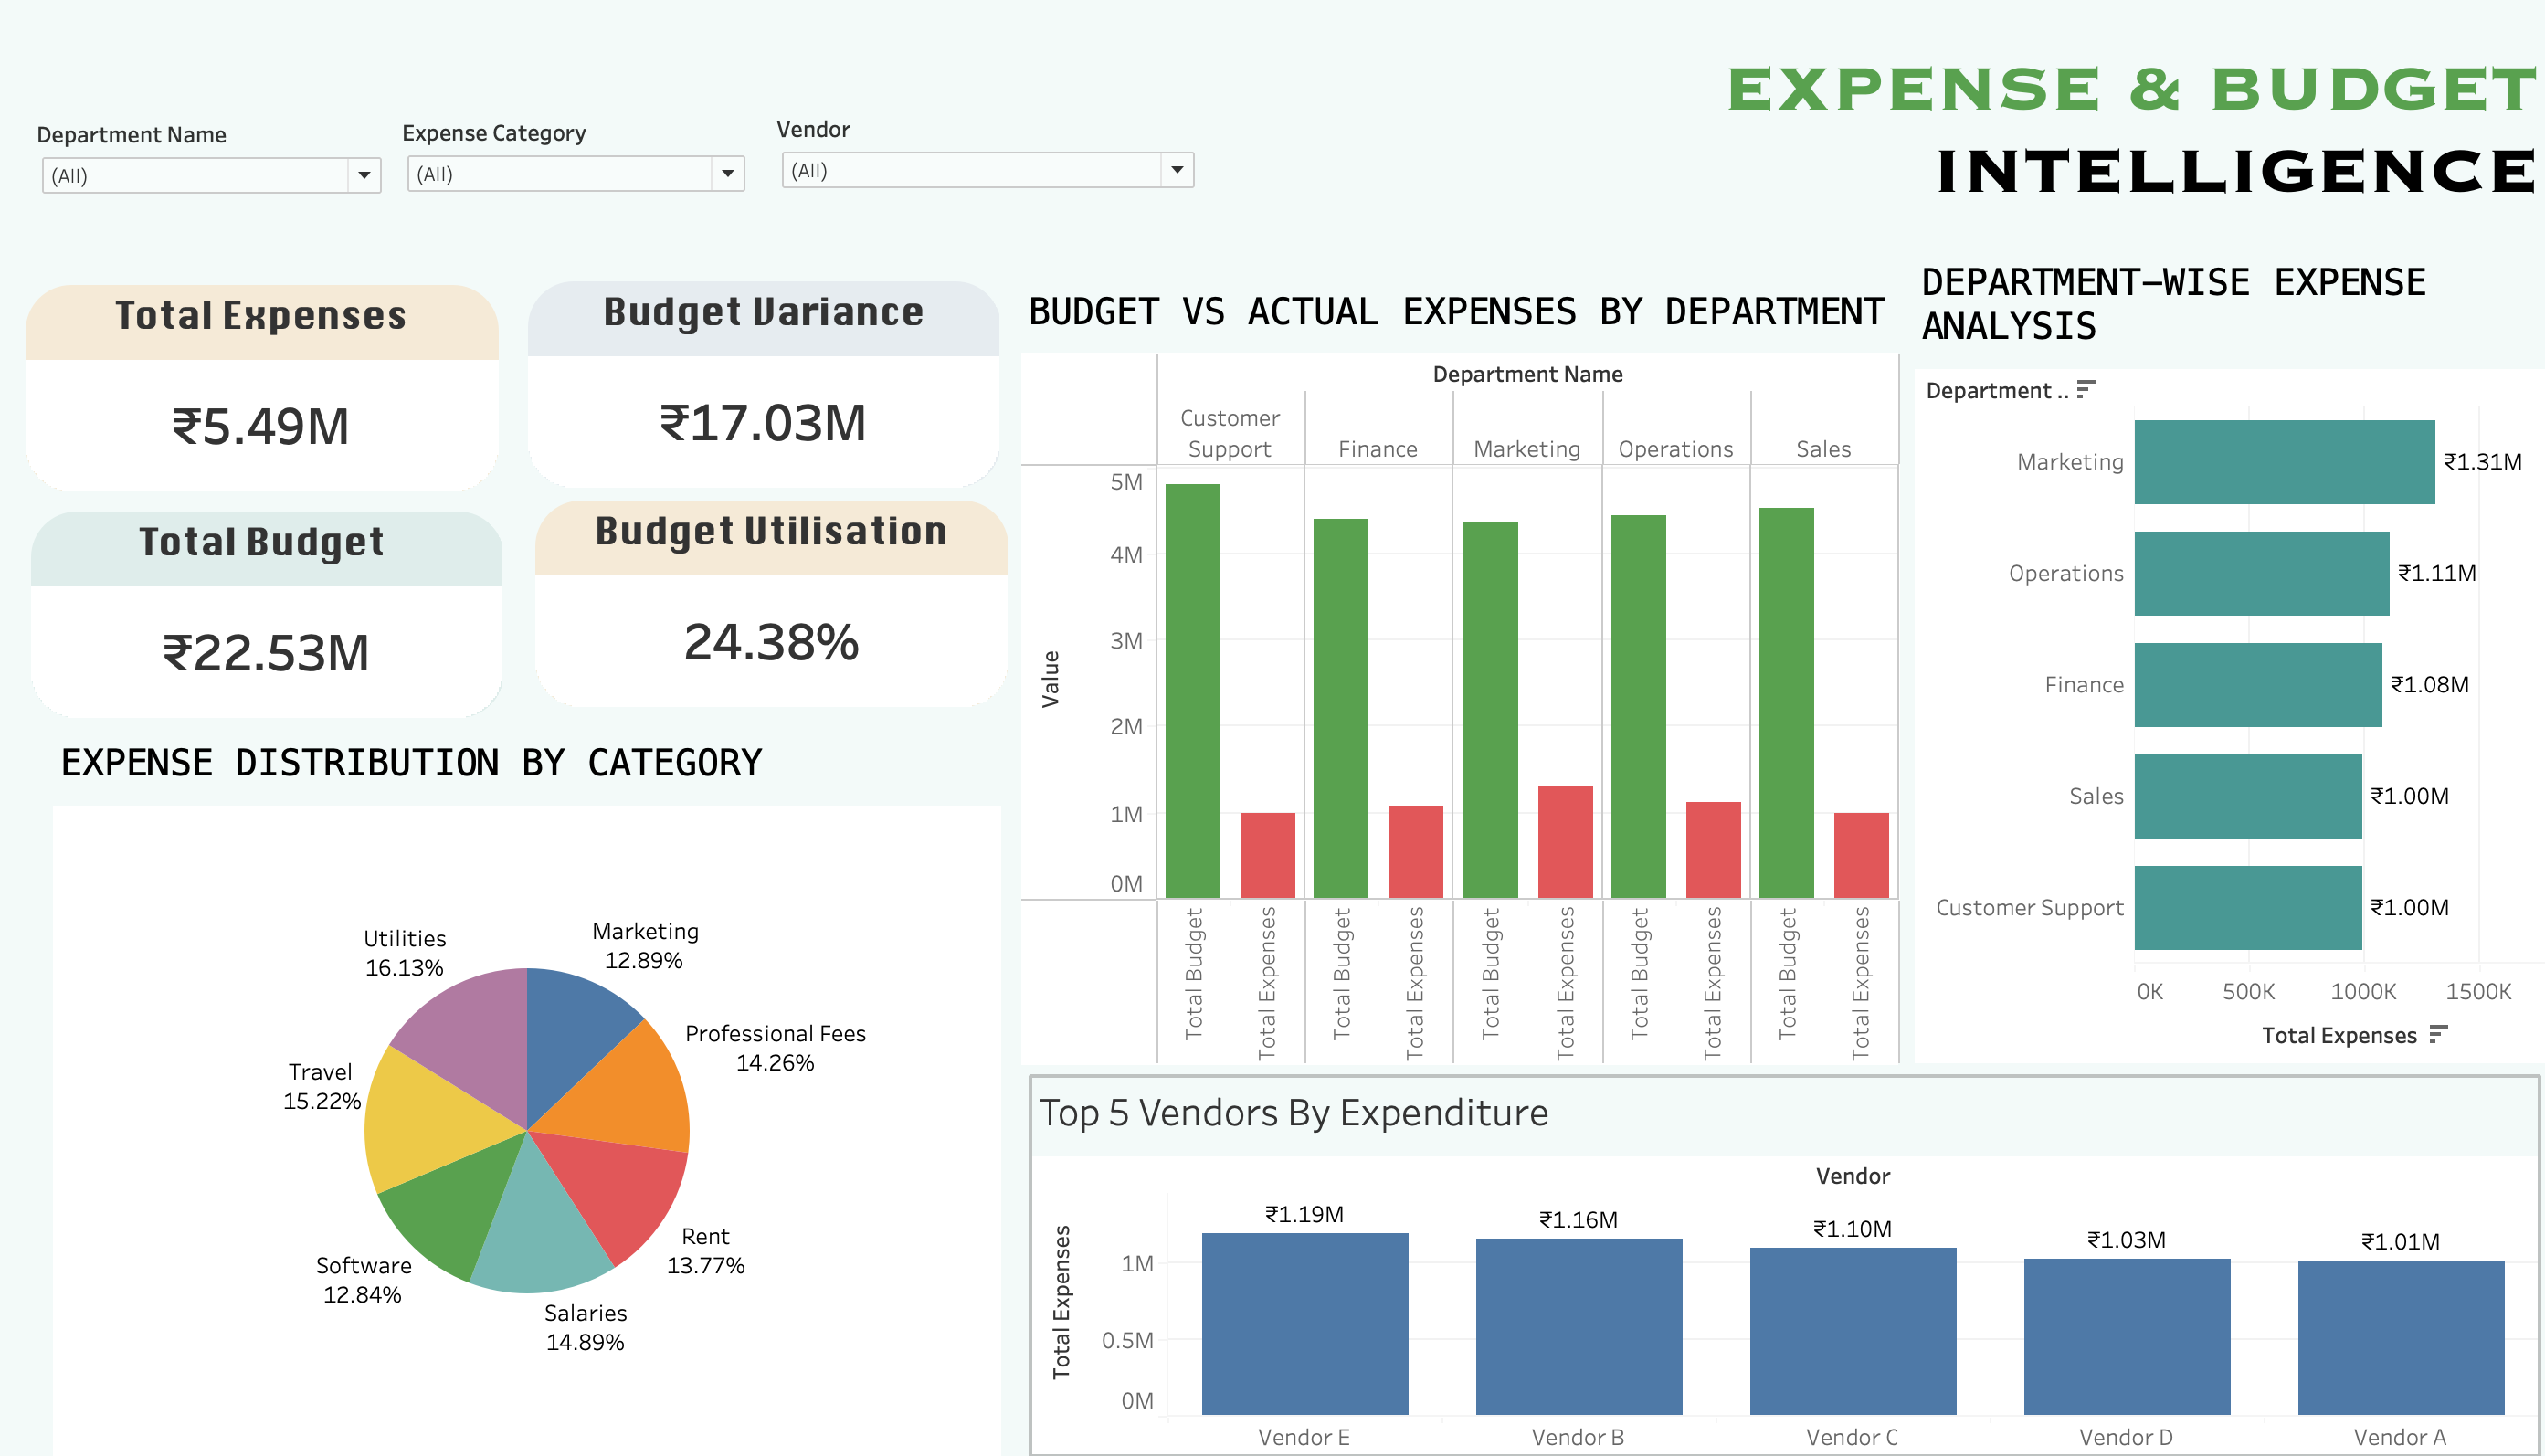

Layout of this report page (visuals, bound fields, positions):
{"tool":"tableau","page":{"name":"EXPENSE & BUDGET INTELLIGENCE","canvas":[1000,1000],"units":"permille","ordinal":0},"visuals":[{"type":"text","box":[538.6,9.9,450,158.4]},{"type":"filter","title":"Top 5 Vendors by Expenditure","param":"[federated.08mxhpq0ia698n1gbabo80gj237x].[none:vendor:nk]","box":[304.8,76.7,164.1,71.8]},{"type":"filter","title":"Expense by Category","param":"[federated.08mxhpq0ia698n1gbabo80gj237x].[none:expense_category:nk]","box":[159.8,79.2,135.1,69.3]},{"type":"filter","title":"Department Expense Analysis","param":"[federated.0fd6qns0igxaly14bpu9u05v7dkb].[none:department_name:nk]","box":[18.4,80.5,135.8,68.1]},{"type":"worksheet","title":"Department Expense Analysis","mark":"Bar","rows":["department_name"],"cols":["total_expenses"],"box":[745.8,172,244.9,548.3]},{"type":"worksheet","title":"KPI - Department Budget Variance","mark":"Automatic","box":[208.3,190.6,182.8,139.8]},{"type":"worksheet","title":"Budget vs Actual by Department","mark":"Bar","cols":["department_name"],"box":[399.7,191.8,340.1,529.7]},{"type":"worksheet","title":"KPI - Department Total Expenses.","mark":"Automatic","box":[14.5,193.1,182.8,139.8]},{"type":"worksheet","title":"KPI - Department Budget Utilisation","mark":"Automatic","box":[211.7,339.1,182.8,139.8]},{"type":"worksheet","title":"KPI - Department Total Budget","mark":"Automatic","box":[16.2,346.5,182.8,139.8]},{"type":"worksheet","title":"Expense by Category","mark":"Pie","box":[24.7,497.5,367.4,488.9]},{"type":"worksheet","title":"Top 5 Vendors by Expenditure","mark":"Bar","rows":["total_expenses"],"cols":["vendor"],"box":[403.9,730.2,582.5,255]}]}

Visuals, with their boxes on the dashboard's canvas, which has no fixed pixel size, in thousandths of its width and height (x1, y1, x2, y2). These are canvas units, not pixel positions in the 2545x1456 screenshot, which may show the page scaled, cropped or inside an application window:
text: (x1=539, y1=10, x2=989, y2=168)
"Top 5 Vendors by Expenditure" filter: (x1=305, y1=77, x2=469, y2=148)
"Expense by Category" filter: (x1=160, y1=79, x2=295, y2=148)
"Department Expense Analysis" filter: (x1=18, y1=80, x2=154, y2=149)
"Department Expense Analysis" worksheet (Bar marks): (x1=746, y1=172, x2=991, y2=720)
"KPI - Department Budget Variance" worksheet: (x1=208, y1=191, x2=391, y2=330)
"Budget vs Actual by Department" worksheet (Bar marks): (x1=400, y1=192, x2=740, y2=722)
"KPI - Department Total Expenses." worksheet: (x1=14, y1=193, x2=197, y2=333)
"KPI - Department Budget Utilisation" worksheet: (x1=212, y1=339, x2=394, y2=479)
"KPI - Department Total Budget" worksheet: (x1=16, y1=346, x2=199, y2=486)
"Expense by Category" worksheet (Pie marks): (x1=25, y1=498, x2=392, y2=986)
"Top 5 Vendors by Expenditure" worksheet (Bar marks): (x1=404, y1=730, x2=986, y2=985)
